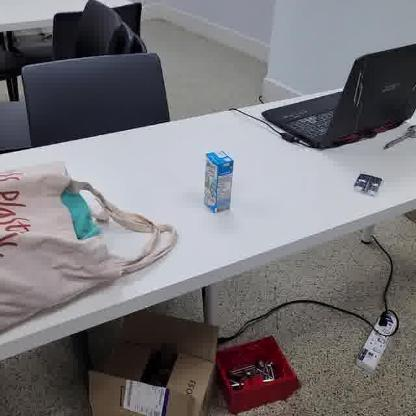Others: (201, 144, 237, 216)
